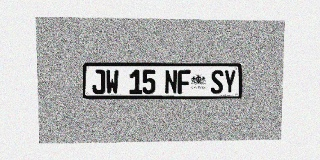1: (129, 70, 142, 94)
5: (142, 70, 155, 94)
F: (178, 70, 190, 94)
J: (92, 70, 105, 94)
N: (164, 70, 177, 94)
S: (211, 70, 223, 94)
W: (105, 70, 119, 94)
Y: (223, 70, 236, 94)
